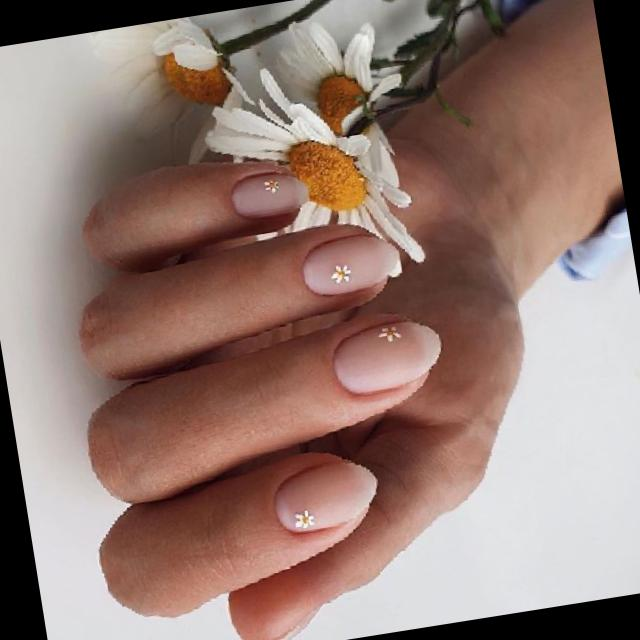Nail: (332, 322, 440, 394), (273, 461, 376, 532), (302, 235, 398, 295), (231, 174, 308, 218)
